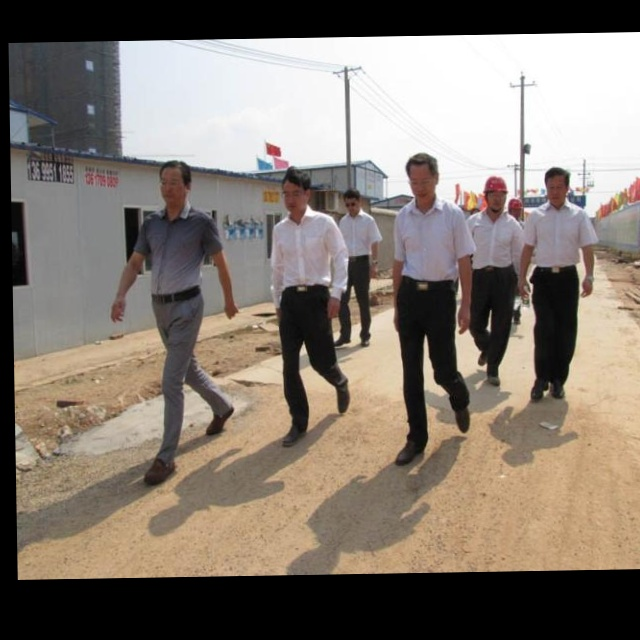Con_Casco: (483, 174, 510, 216)
Sin_Casco_Mascarrilla: (159, 159, 191, 212), (542, 166, 571, 209)
Sin_Chaleco: (266, 209, 343, 300), (390, 196, 467, 284)
